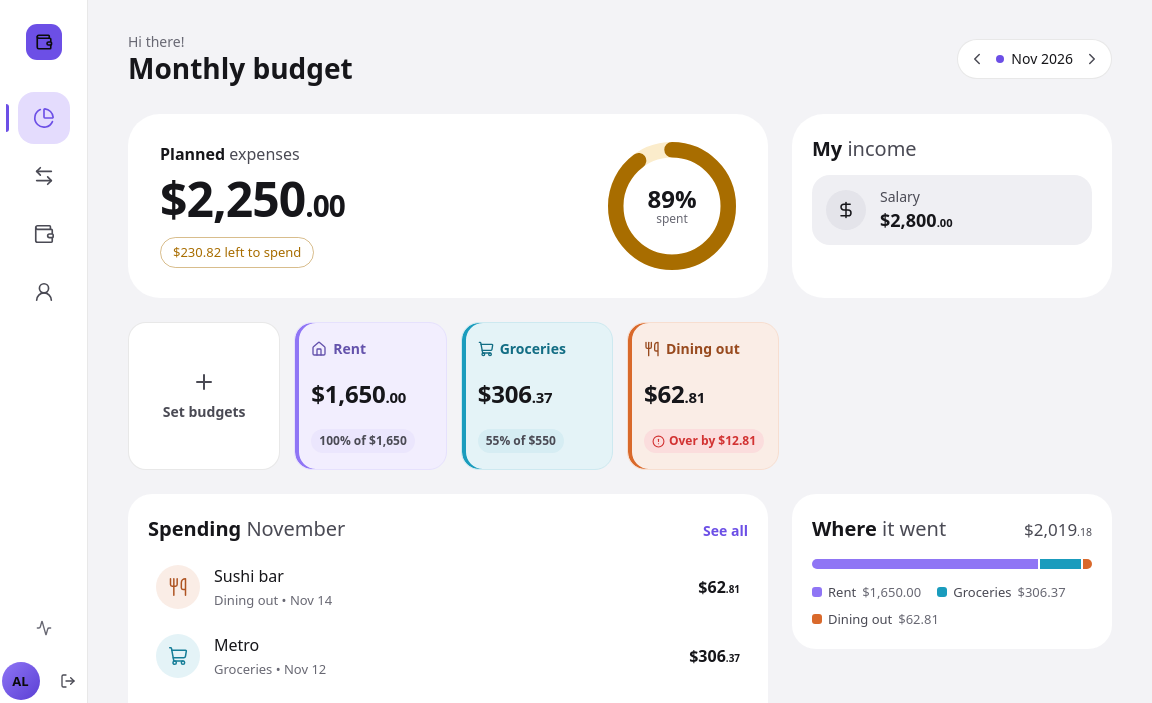
Scenario: the month picker loads the previous month
expect the element "Planned expenses" is shown: met, box x1=128 y1=114 x2=768 y2=298
Click the button named "Previous month".
click(977, 59)  # box x1=962 y1=44 x2=992 y2=74
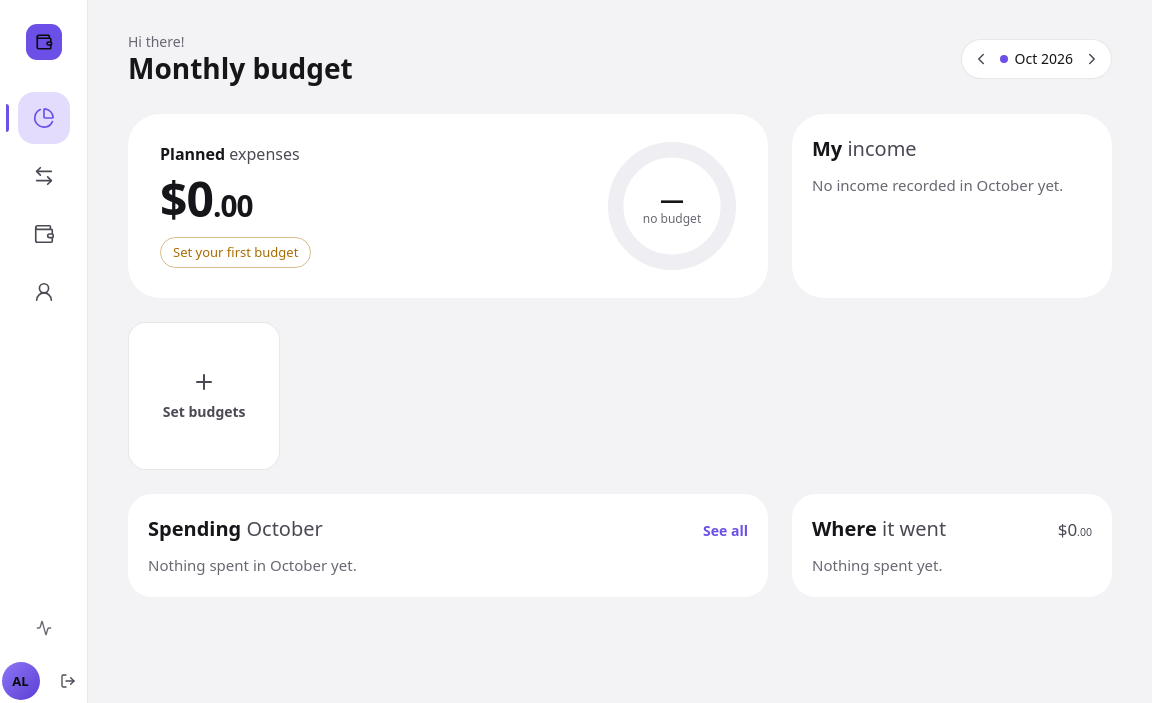
expect the text "No income recorded in October yet." is shown: met, box x1=812 y1=175 x2=1092 y2=197
expect the link "Set your first budget" is shown: met, box x1=160 y1=238 x2=311 y2=268
